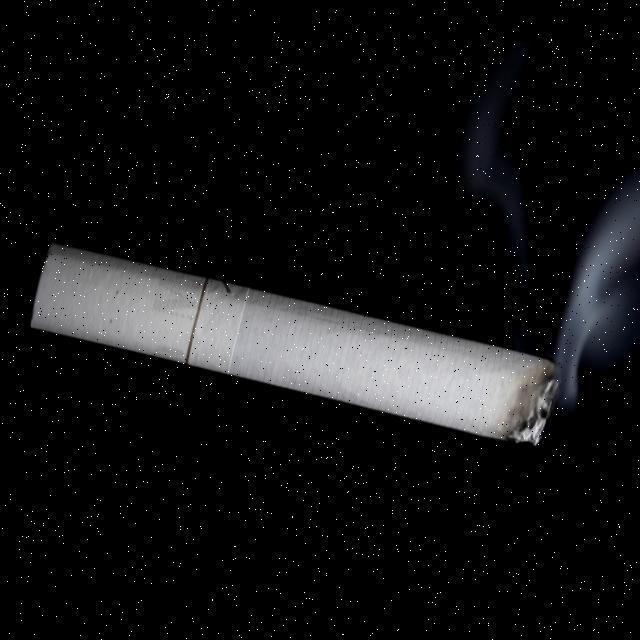cigarette: (26, 232, 569, 460)
